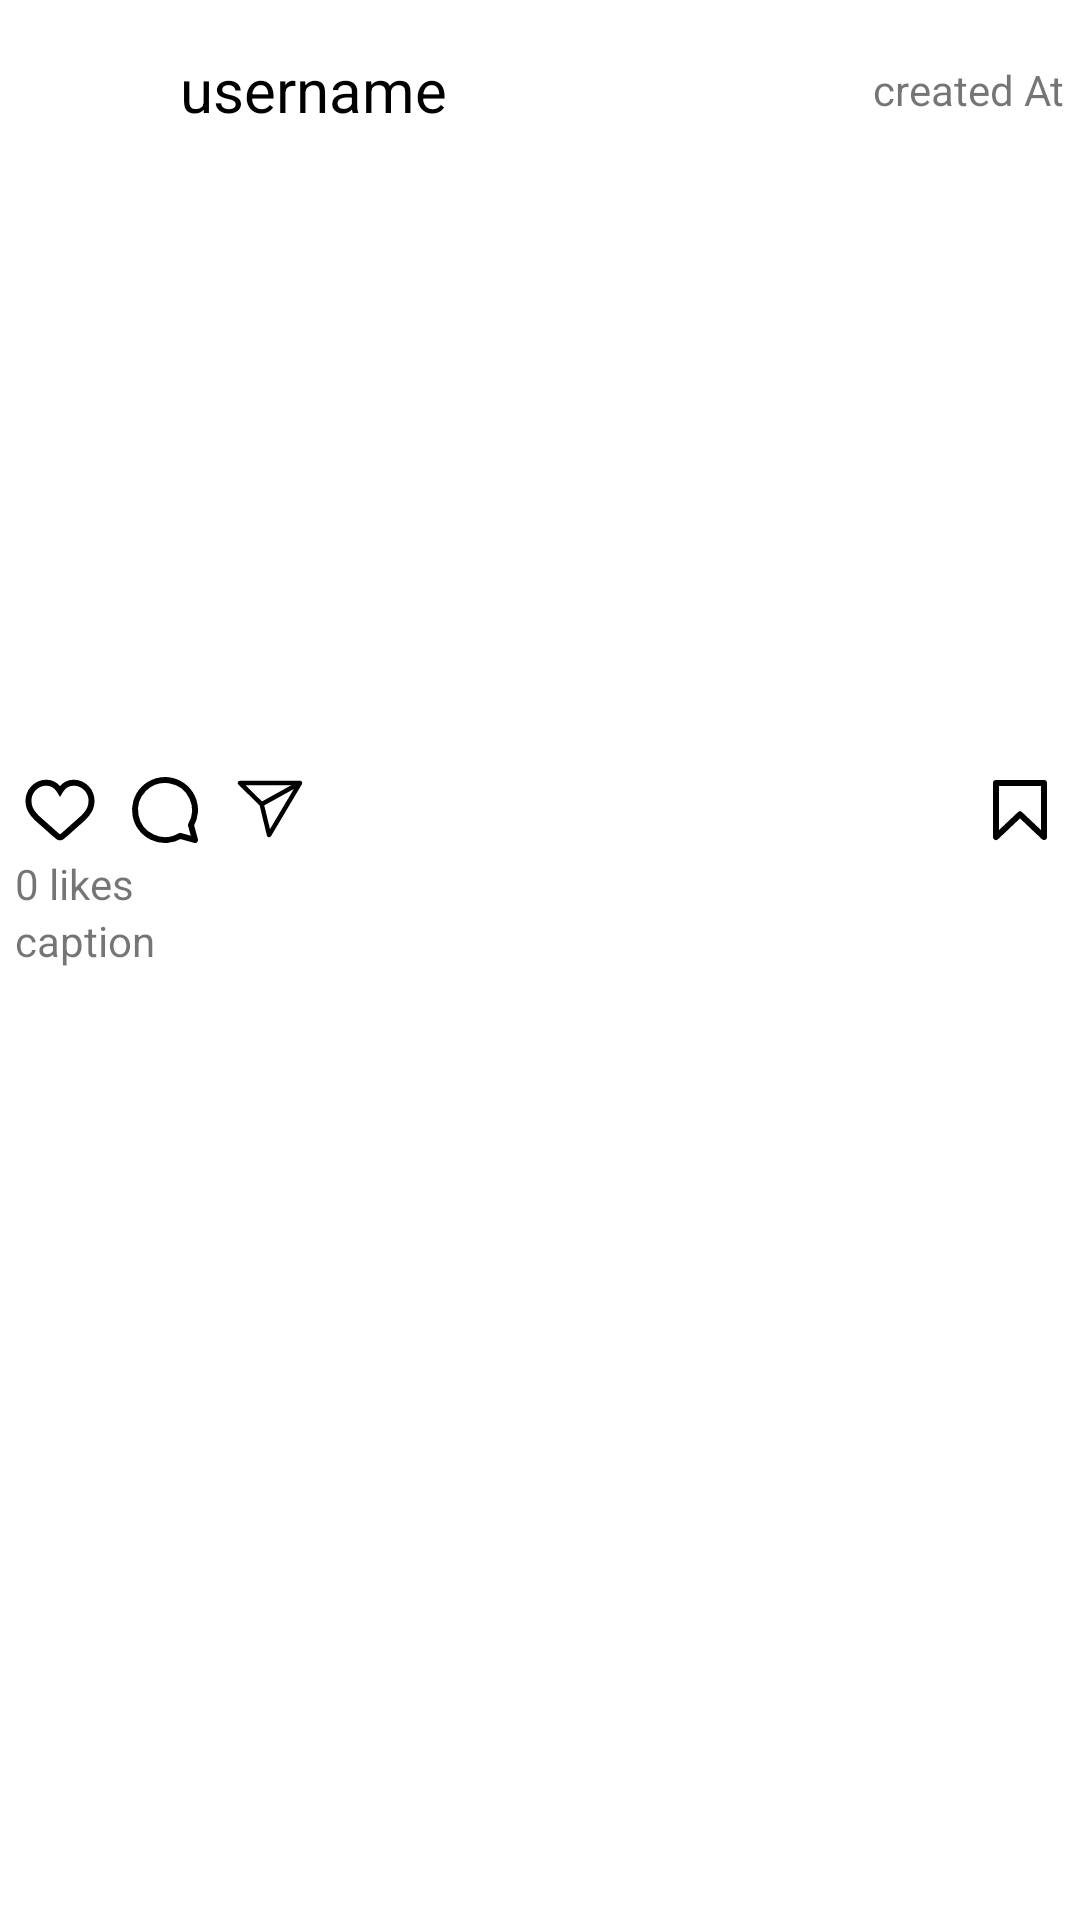

Named icons in this screenshot (1080 x 1920) and their bounding boxes, (x1, y1, x2, y2):
comment: (132, 777, 198, 843)
save: (993, 780, 1047, 840)
share: (237, 780, 303, 838)
